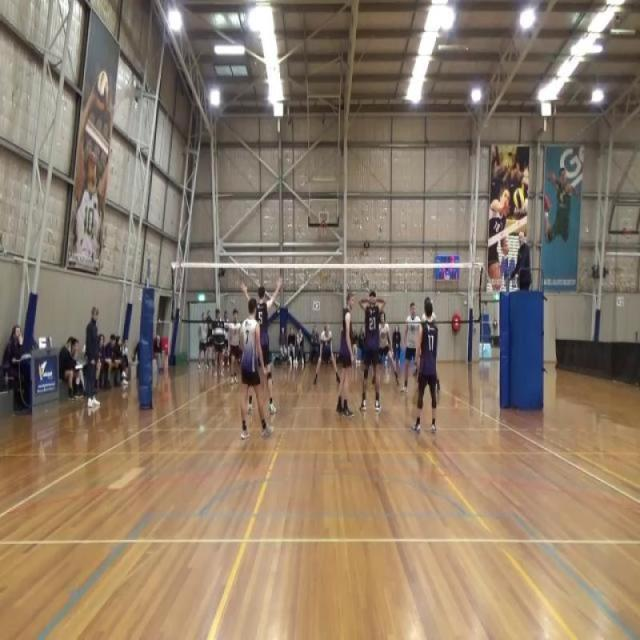volleyball: (94, 70, 108, 113), (512, 188, 524, 210)
